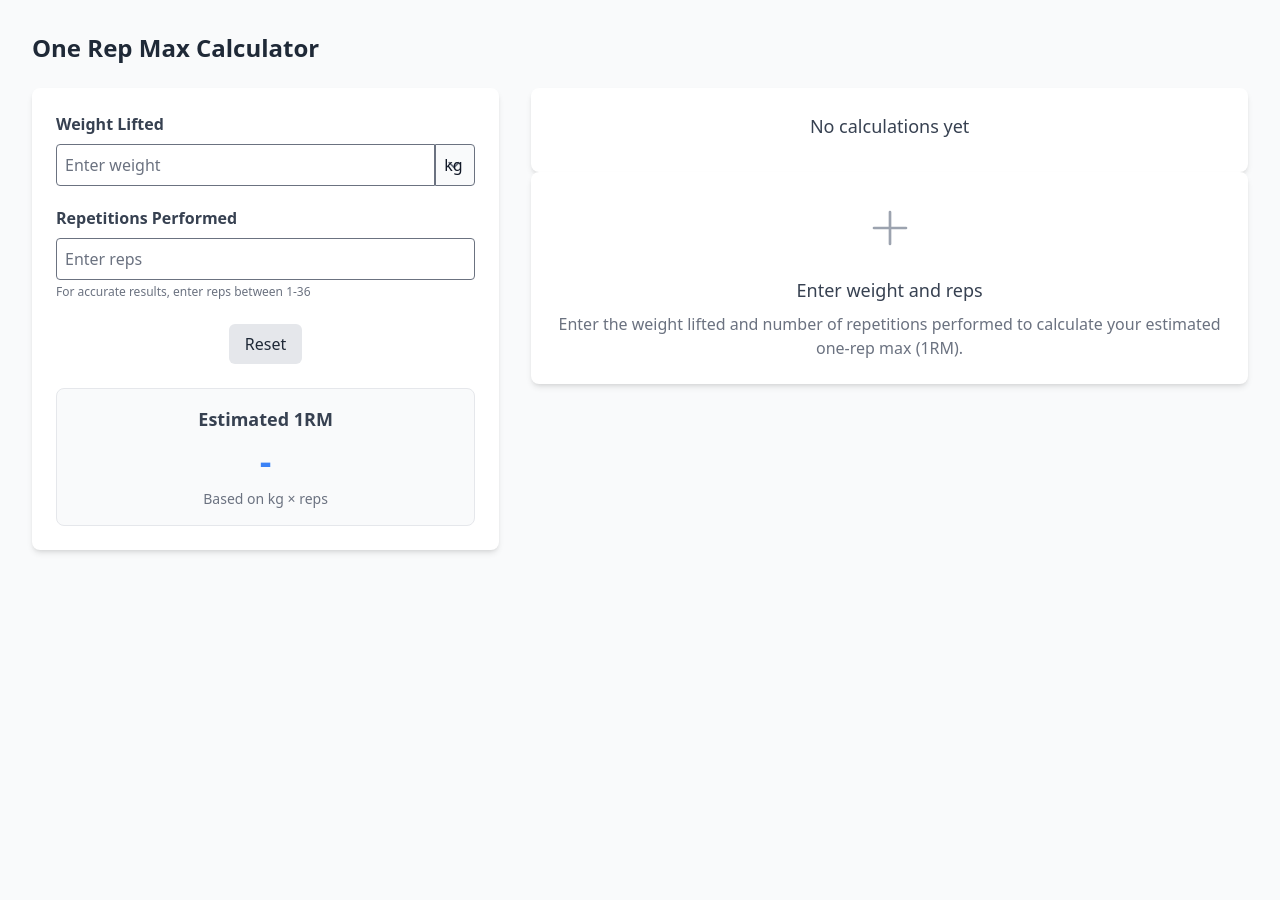
Test case: OneRepMaxCalculator › calculates 1RM when weight and reps are entered
In the number field with placeholder "Enter weight": (246, 165) [56, 144, 435, 186], type "200"
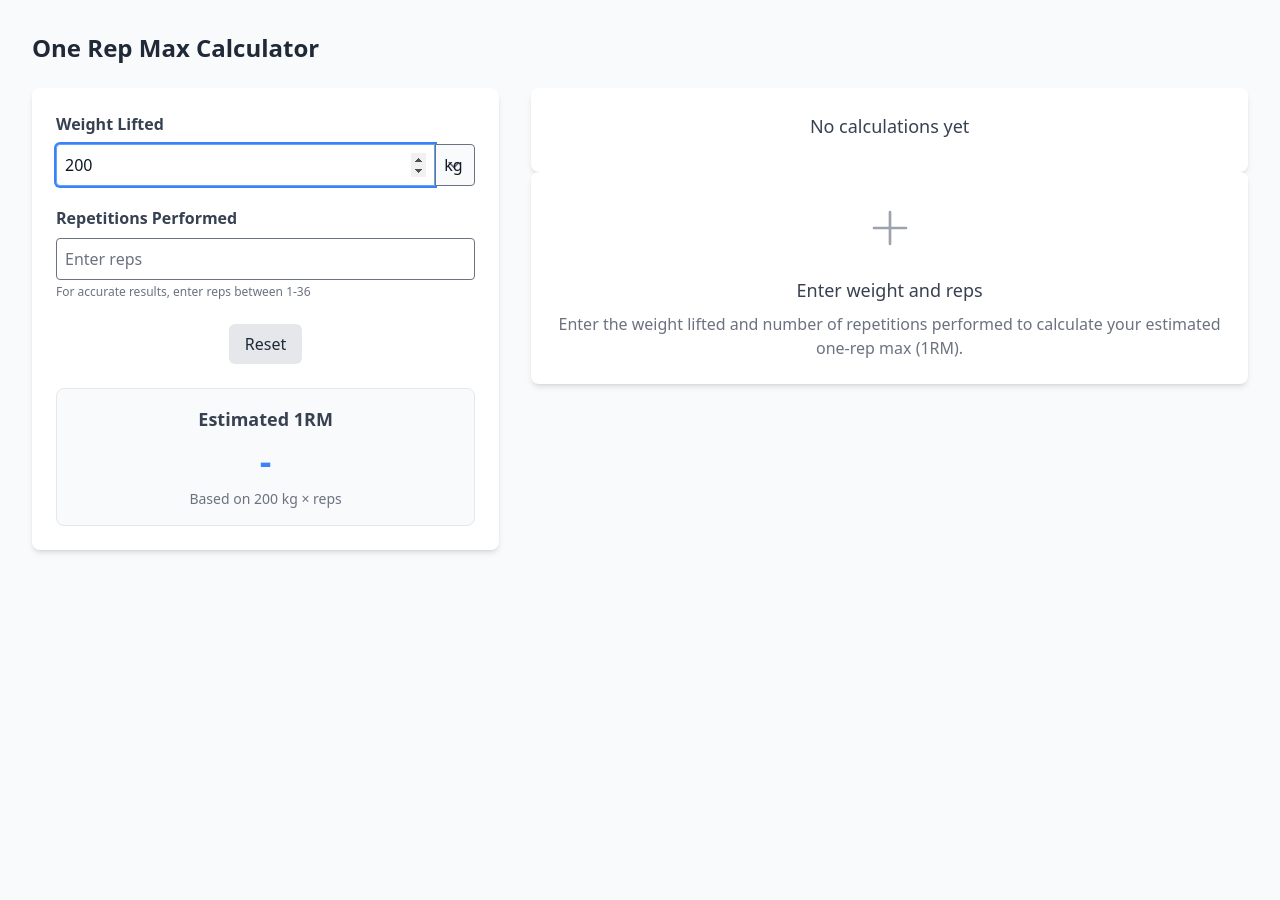
In the number field with placeholder "Enter reps": (266, 259) [56, 238, 475, 280], type "5"
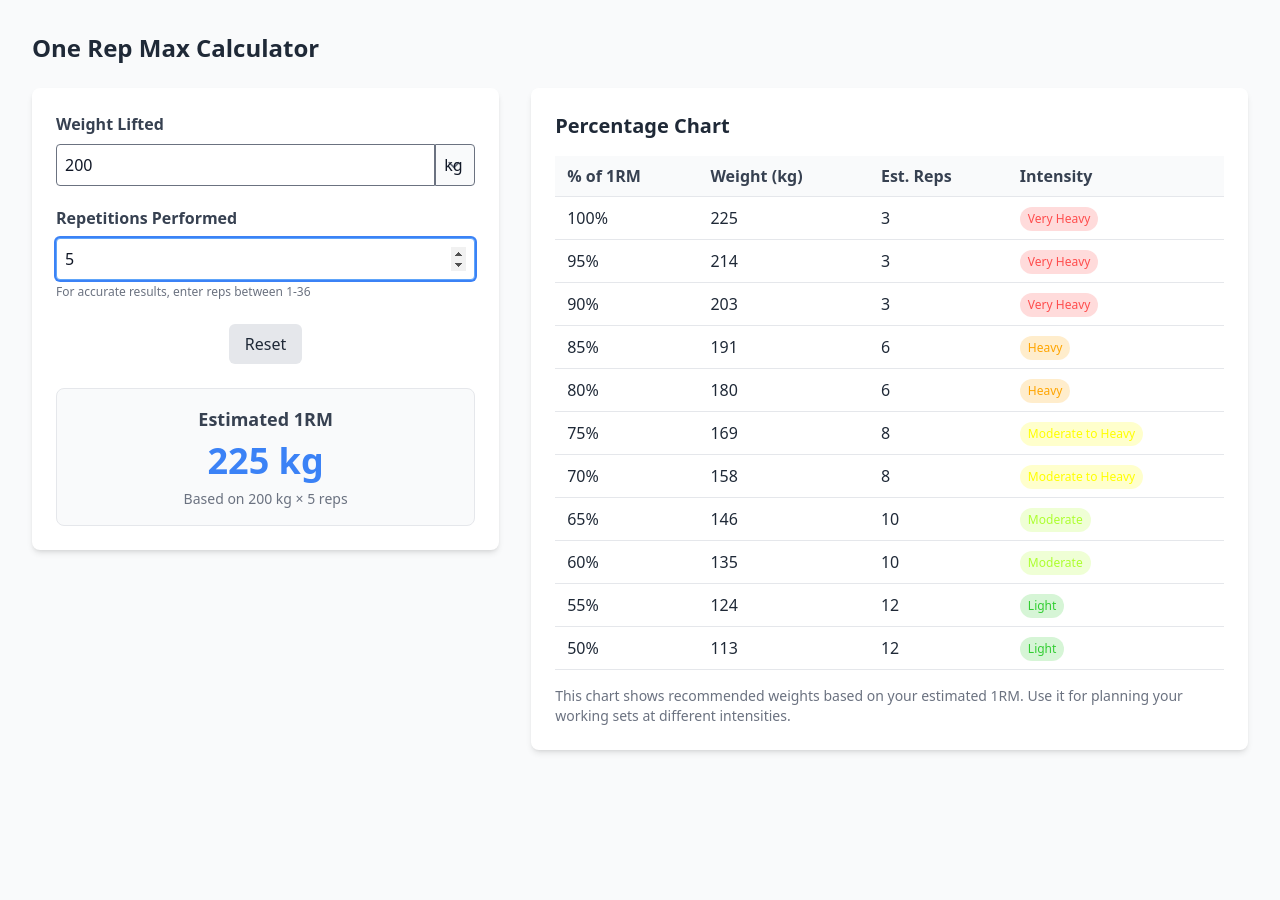
Check: the text "225 kg" is shown, box [208, 436, 324, 485]
Check: the heading "Percentage Chart" is shown, box [555, 112, 730, 139]
